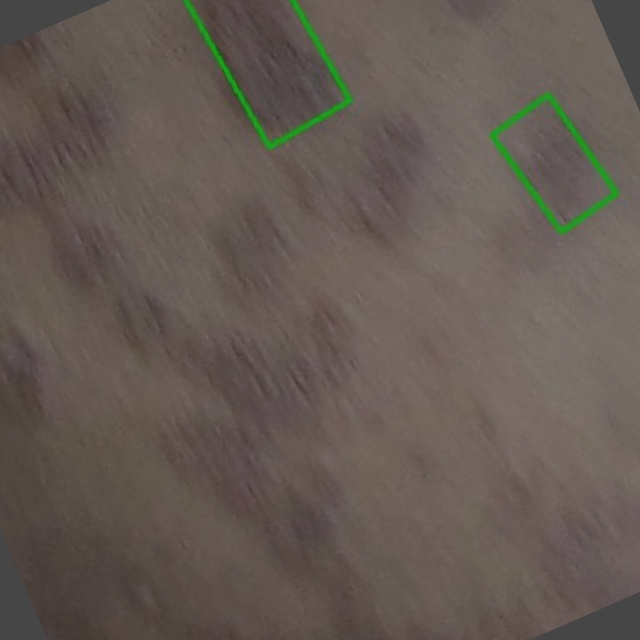Tinea Corporis: (187, 0, 350, 146), (493, 95, 617, 232)
